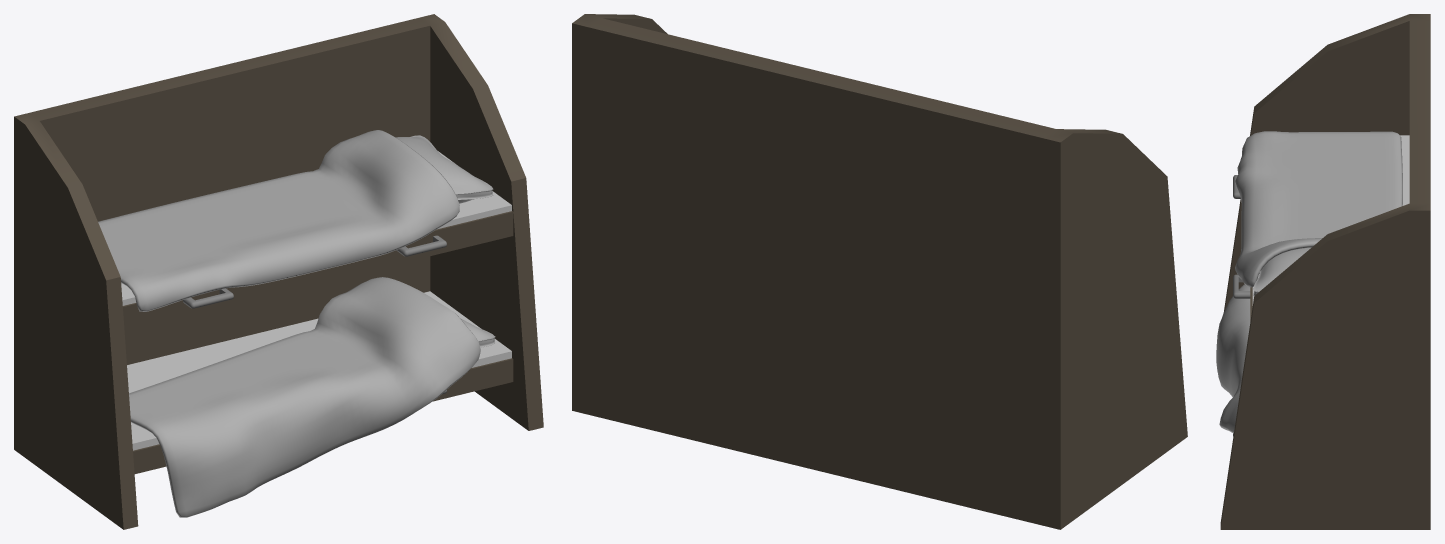
Rendered from bed_01_ver2.fbx.
3 renders of one model, left to right at view 1: azimuth 30°, elevation 25°; view 2: azimuth 150°, elevation 25°; view 3: azimuth 270°, elevation 25°, orthographic. The views are drawn at different scales.
Parts seen in each view (by area): view 1: pCube9, pPlane2, pPlane1, pCube19, pCube17, pCube16; view 2: pCube9; view 3: pCube9, pPlane1, pPlane2, pCube19, pCube16.
Part boxes in pixels (left/top/right/bottom): pCube9: left=14, top=14, right=543, bottom=529; pPlane2: left=129, top=277, right=480, bottom=517; pPlane1: left=98, top=130, right=459, bottom=311; pCube19: left=121, top=151, right=513, bottom=330; pCube17: left=127, top=291, right=513, bottom=473; pCube16: left=395, top=135, right=493, bottom=203; pCube9: left=572, top=14, right=1187, bottom=529; pCube9: left=1220, top=14, right=1430, bottom=529; pPlane1: left=1235, top=131, right=1402, bottom=287; pPlane2: left=1216, top=284, right=1250, bottom=433; pCube19: left=1233, top=135, right=1409, bottom=321; pCube16: left=1253, top=247, right=1310, bottom=295.
Bounding box in the file's own units: 3.44 × 2.64 × 1.59.
